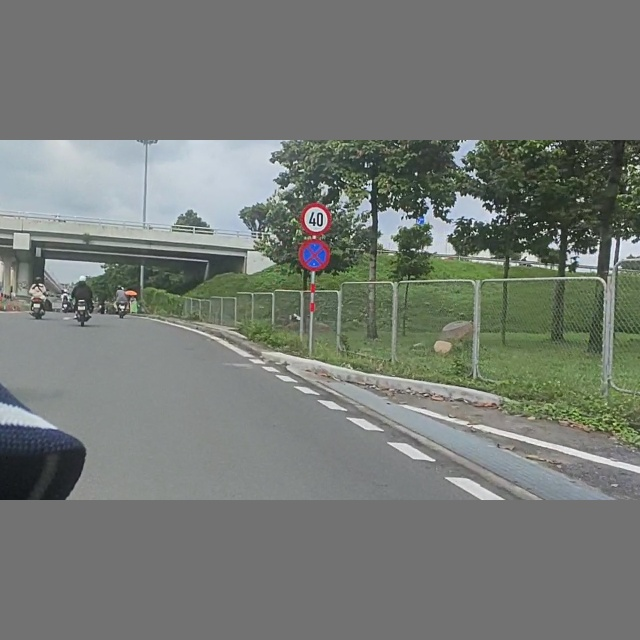P.127*40: (301, 202, 331, 235)
P.130: (299, 239, 330, 271)
